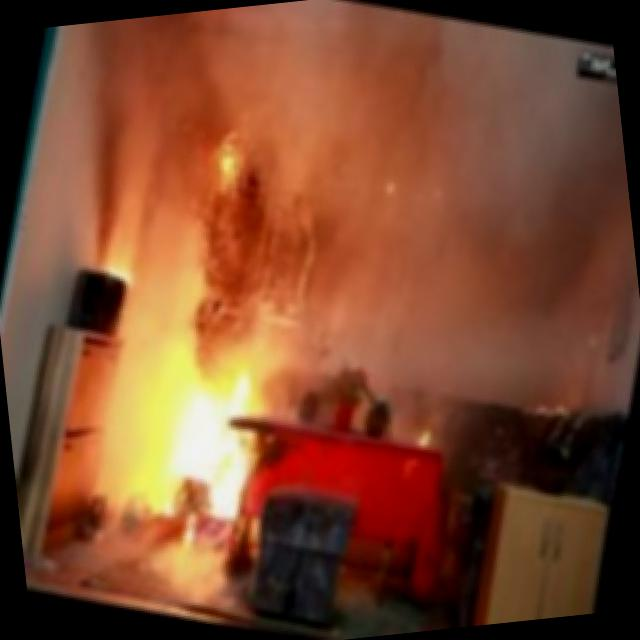fire: (74, 292, 317, 563)
